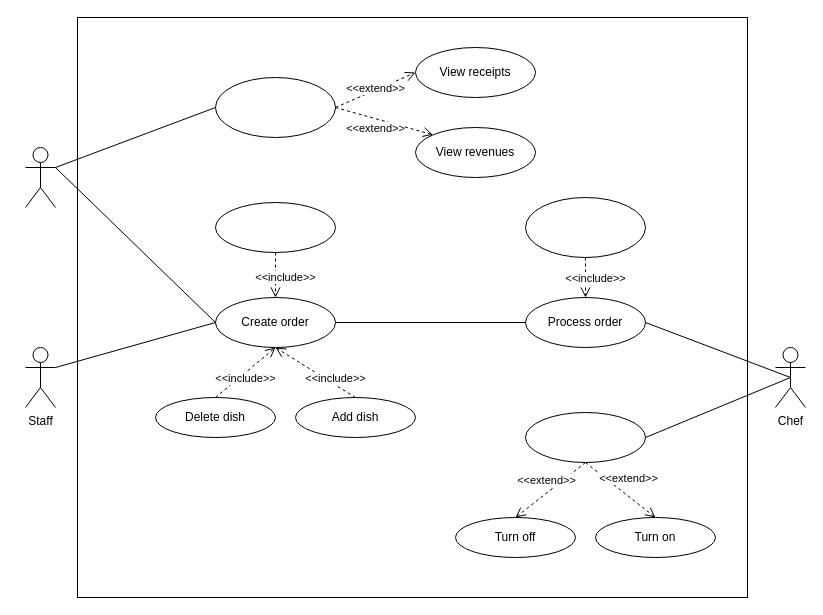
Image size: 823x615. Some labels were removed from this diagram. Here are the shapes that lost their labels. From the top down, the box of each, then its label:
(214, 76, 336, 138): Manage receipts
(24, 146, 56, 208): Manager
(214, 202, 336, 252): Make payment
(524, 196, 646, 258): Mark the completed dish
(524, 412, 646, 462): Manage dish status
